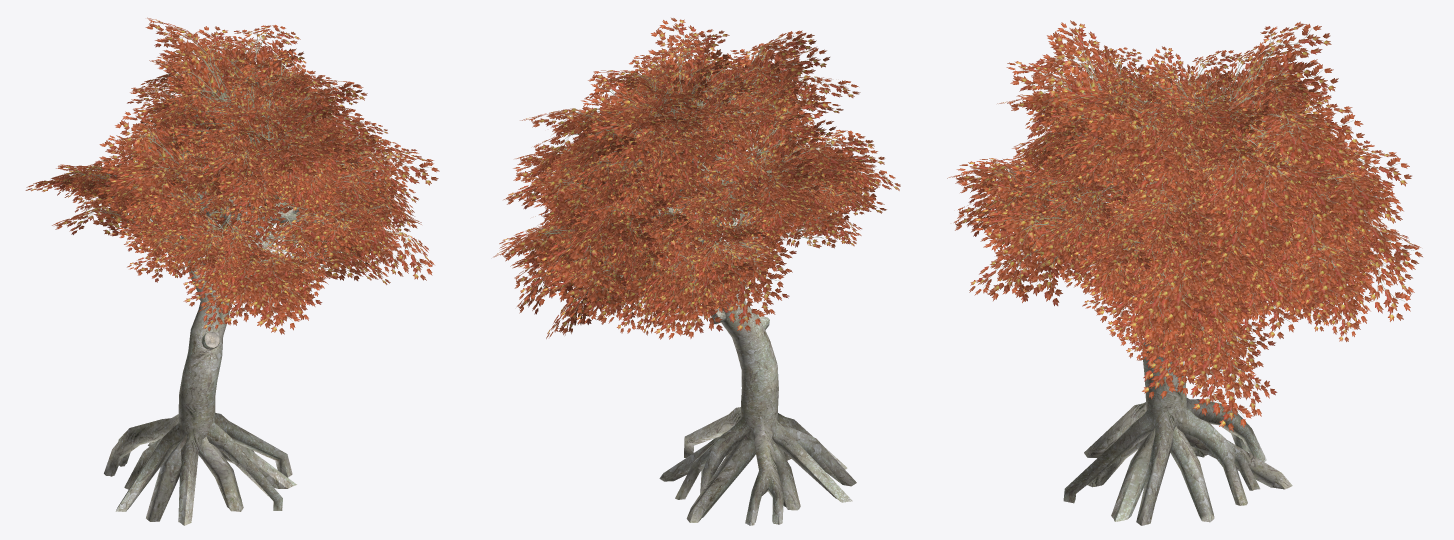
File: tree.glb
The picture shows the model from 3 angles, left to right: view 1: azimuth 30°, elevation 25°; view 2: azimuth 150°, elevation 25°; view 3: azimuth 270°, elevation 25°; orthographic projection. The views are drawn at different scales.
Parts seen in each view (by area): view 1: yggrassil_02; view 2: yggrassil_02; view 3: yggrassil_02.
Part boxes in pixels (x1=…): yggrassil_02: x1=25, y1=17, x2=439, y2=525; yggrassil_02: x1=493, y1=18, x2=900, y2=525; yggrassil_02: x1=947, y1=20, x2=1422, y2=525.
Bounding box in the file's own units: 1.53 × 1.79 × 1.76.
4 materials, 3 textured.
